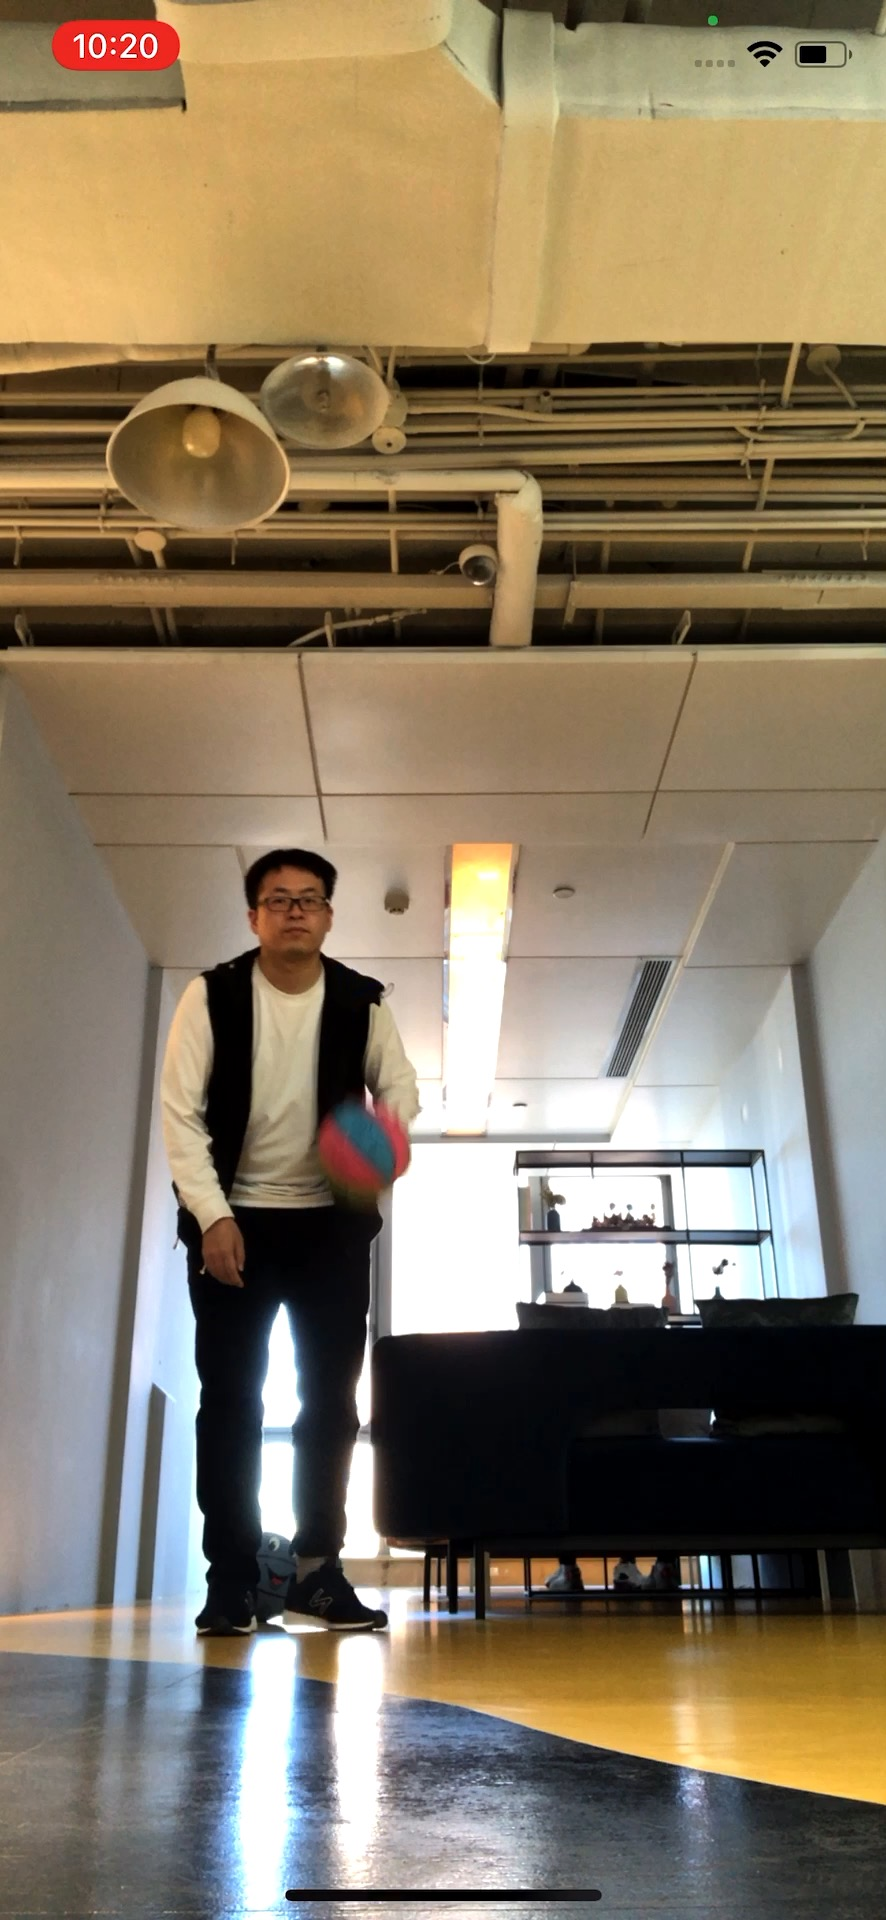ball: (316, 1102, 412, 1194)
